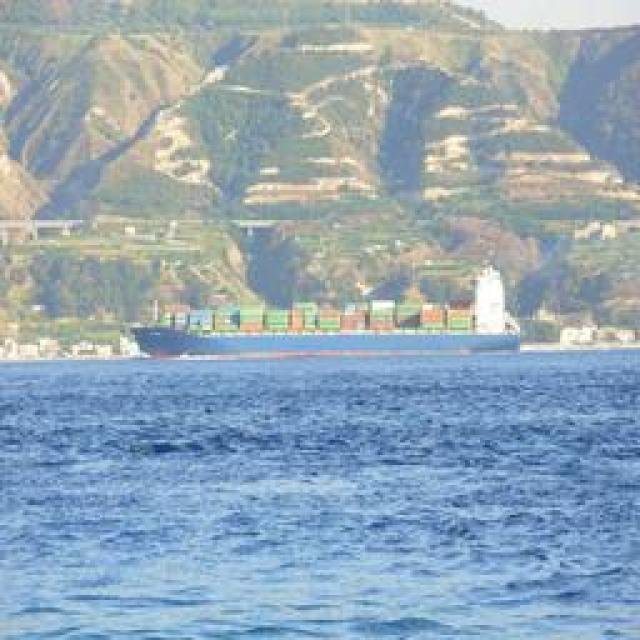CIV_Ship: (132, 320, 518, 362)
